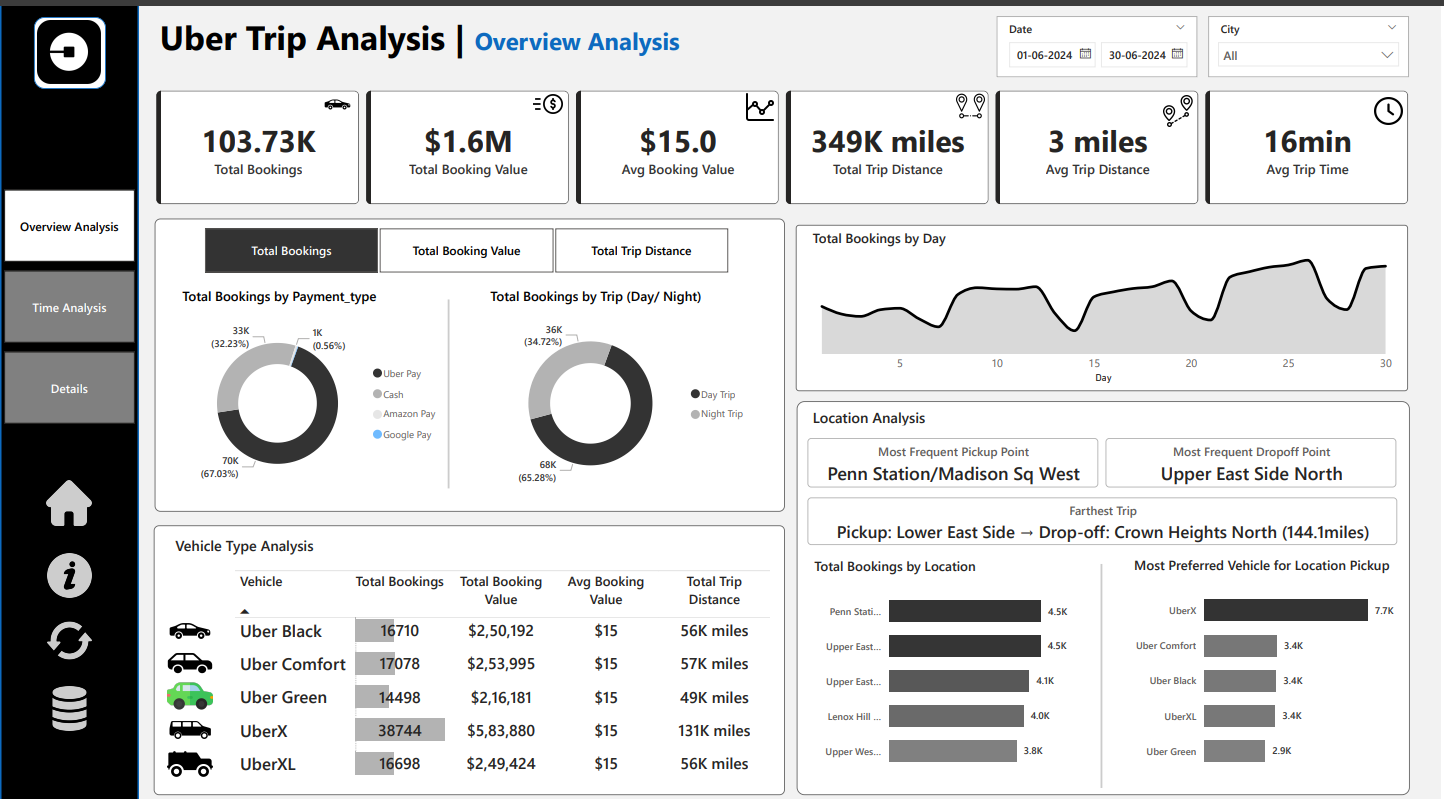

Layout of this report page (visuals, bound fields, positions):
{"tool":"powerbi","page":{"name":"Overview Analysis","canvas":[1600,900],"ordinal":0},"visuals":[{"type":"shape","box":[0,0,153,898],"z":0},{"type":"shape","box":[36.7,16.1,80,80],"z":0,"group":"g1"},{"type":"textbox","box":[172.2,8.3,651.7,80],"z":1000},{"type":"image","box":[41.1,20.3,70,70],"z":1000,"group":"g1"},{"type":"cardVisual","fields":{"Data":["Trip Details.Total Bookings","Trip Details.Total Booking Amount","Trip Details.Avg Booking Amount","Trip Details.Total Trip Distance","Trip Details.Avg Trip Distance","Trip Details.Avg Trip Time"]},"box":[153.1,77.7,1435.4,166.9],"z":2000,"group":"g2"},{"type":"shape","box":[170.8,240,700.3,325.9],"z":2000},{"type":"image","box":[585.8,96.7,44.2,32.5],"z":3000,"group":"g2"},{"type":"slicer","fields":{"Values":["Dynamic Measure.Dynamic Measure"]},"box":[201.2,244.1,631.2,62.5],"z":3000},{"type":"image","box":[1287.6,102.2,41.7,35.5],"z":4000,"group":"g2"},{"type":"donutChart","fields":{"Y":["Trip Details.Total Bookings"],"Category":["Trip Details.Payment_type"]},"box":[197.1,316.2,300,239],"z":4000},{"type":"image","box":[1055.8,98.3,40.8,32.5],"z":5000,"group":"g2"},{"type":"donutChart","fields":{"Y":["Trip Details.Total Bookings"],"Category":["Trip Details.Trip Type (Day/ Night)"]},"box":[538.7,316.2,300,239],"z":5000},{"type":"image","box":[1519.3,104.3,43.8,31.3],"z":6000,"group":"g2"},{"type":"shape","box":[169.9,580.7,701.2,300.5],"z":6000},{"type":"image","box":[823.3,98.3,39.2,34.2],"z":7000,"group":"g2"},{"type":"pivotTable","fields":{"Rows":["Trip Details.Vehicle"],"Values":["Trip Details.Total Bookings","Trip Details.Total Booking Value","Trip Details.Avg Booking Value","Trip Details.Total Trip Distance"]},"box":[255.8,625.7,611.4,244.3],"z":7000},{"type":"image","box":[352.5,97.5,44.2,31.7],"z":8000,"group":"g2"},{"type":"image","box":[170.5,674.3,80,50],"z":8000},{"type":"image","box":[170.5,708.5,80,50],"z":9000},{"type":"image","box":[170.5,745.8,80,50],"z":10000},{"type":"image","box":[170.5,784.3,80,50],"z":11000},{"type":"image","box":[170.5,821.2,80,50],"z":12000},{"type":"cardVisual","fields":{"Data":["Trip Details.Title for Grid"]},"box":[150.9,573.7,240,57.1],"z":13000},{"type":"shape","box":[883.3,246.7,680,185],"z":14000},{"type":"shape","box":[884.3,443,680.3,438.3],"z":15000},{"type":"areaChart","fields":{"Category":["Calender Table.Date.Variation.Date Hierarchy.Day"],"Y":["Trip Details.Total Bookings"]},"box":[896.7,251.1,656.7,176.7],"z":16000},{"type":"cardVisual","fields":{"Data":["Trip Details.Most Frequent Pickup Point","Calender Table.Most Frequent Dropoff Point"]},"box":[871.2,458.8,705,105],"z":17000},{"type":"cardVisual","fields":{"Data":["Calender Table.Farthest Trip"]},"box":[871.2,525,705,103.8],"z":18000},{"type":"barChart","fields":{"Category":["Location Table.Location"],"Y":["Trip Details.Total Bookings"]},"box":[898.8,615.7,300,250],"z":19000},{"type":"barChart","title":"Most Preferred Vehicle for Location Pickup","fields":{"Category":["Trip Details.Vehicle"],"Y":["CountNonNull(Trip Details.PULocationID)"]},"box":[1253.6,615,300.2,251.1],"z":20000},{"type":"shape","box":[475,330,45,210],"z":21000},{"type":"shape","box":[1200,623.8,45,248.8],"z":22000},{"type":"cardVisual","fields":{"Data":["Trip Details.Title for Location"]},"box":[871.2,431.2,187.5,56.2],"z":23000},{"type":"slicer","fields":{"Values":["Calender Table.Date"]},"box":[1106.2,15,222.5,67.5],"z":24000},{"type":"slicer","fields":{"Values":["Location Table.City"]},"box":[1341.2,15,222.5,67.5],"z":25000},{"type":"group","id":"g1","title":"Group 1","box":[36.7,16.1,80,80],"z":26000},{"type":"pageNavigator","box":[4,208.5,145.7,261.1],"z":27000},{"type":"image","box":[51.5,610.3,49.5,51.5],"z":28000},{"type":"image","box":[50.6,530.3,50.6,50.6],"z":29000},{"type":"image","box":[51.5,684.5,49.5,49.5],"z":30000},{"type":"image","box":[51.5,758.8,49.5,51.5],"z":31000},{"type":"group","id":"g2","title":"Group 2","box":[153.1,77.7,1435.4,166.9],"z":33000}]}

Visuals, with their boxes in screenshot pixels (x1, y1, x2, y2), scaled from the page's 1600x900 canvas onto the 1444x799 screenshot:
shape: region(0, 0, 138, 797)
shape: region(33, 14, 105, 85)
textbox: region(155, 7, 744, 78)
image: region(37, 18, 100, 80)
cardVisual - Trip Details.Total Bookings x Trip Details.Total Booking Amount: region(138, 69, 1434, 217)
shape: region(154, 213, 786, 502)
image: region(529, 86, 569, 115)
slicer - Dynamic Measure.Dynamic Measure: region(182, 217, 751, 272)
image: region(1162, 91, 1200, 122)
donutChart - Trip Details.Total Bookings x Trip Details.Payment_type: region(178, 281, 449, 493)
image: region(953, 87, 990, 116)
donutChart - Trip Details.Total Bookings x Trip Details.Trip Type (Day/ Night): region(486, 281, 757, 493)
image: region(1371, 93, 1411, 120)
shape: region(153, 516, 786, 782)
image: region(743, 87, 778, 118)
pivotTable - Trip Details.Vehicle x Trip Details.Total Bookings: region(231, 555, 783, 772)
image: region(318, 87, 358, 115)
image: region(154, 599, 226, 643)
image: region(154, 629, 226, 673)
image: region(154, 662, 226, 706)
image: region(154, 696, 226, 741)
image: region(154, 729, 226, 773)
cardVisual - Trip Details.Title for Grid: region(136, 509, 353, 560)
shape: region(797, 219, 1411, 383)
shape: region(798, 393, 1412, 782)
areaChart - Calender Table.Date.Variation.Date Hierarchy.Day x Trip Details.Total Bookings: region(809, 223, 1402, 380)
cardVisual - Trip Details.Most Frequent Pickup Point x Calender Table.Most Frequent Dropoff Point: region(786, 407, 1423, 501)
cardVisual - Calender Table.Farthest Trip: region(786, 466, 1423, 558)
barChart - Location Table.Location x Trip Details.Total Bookings: region(811, 547, 1082, 769)
"Most Preferred Vehicle for Location Pickup" barChart: region(1131, 546, 1402, 769)
shape: region(429, 293, 469, 479)
shape: region(1083, 554, 1124, 775)
cardVisual - Trip Details.Title for Location: region(786, 383, 955, 433)
slicer - Calender Table.Date: region(998, 13, 1199, 73)
slicer - Location Table.City: region(1210, 13, 1411, 73)
"Group 1" group: region(33, 14, 105, 85)
pageNavigator: region(4, 185, 135, 417)
image: region(46, 542, 91, 588)
image: region(46, 471, 91, 516)
image: region(46, 608, 91, 652)
image: region(46, 674, 91, 719)
"Group 2" group: region(138, 69, 1434, 217)
